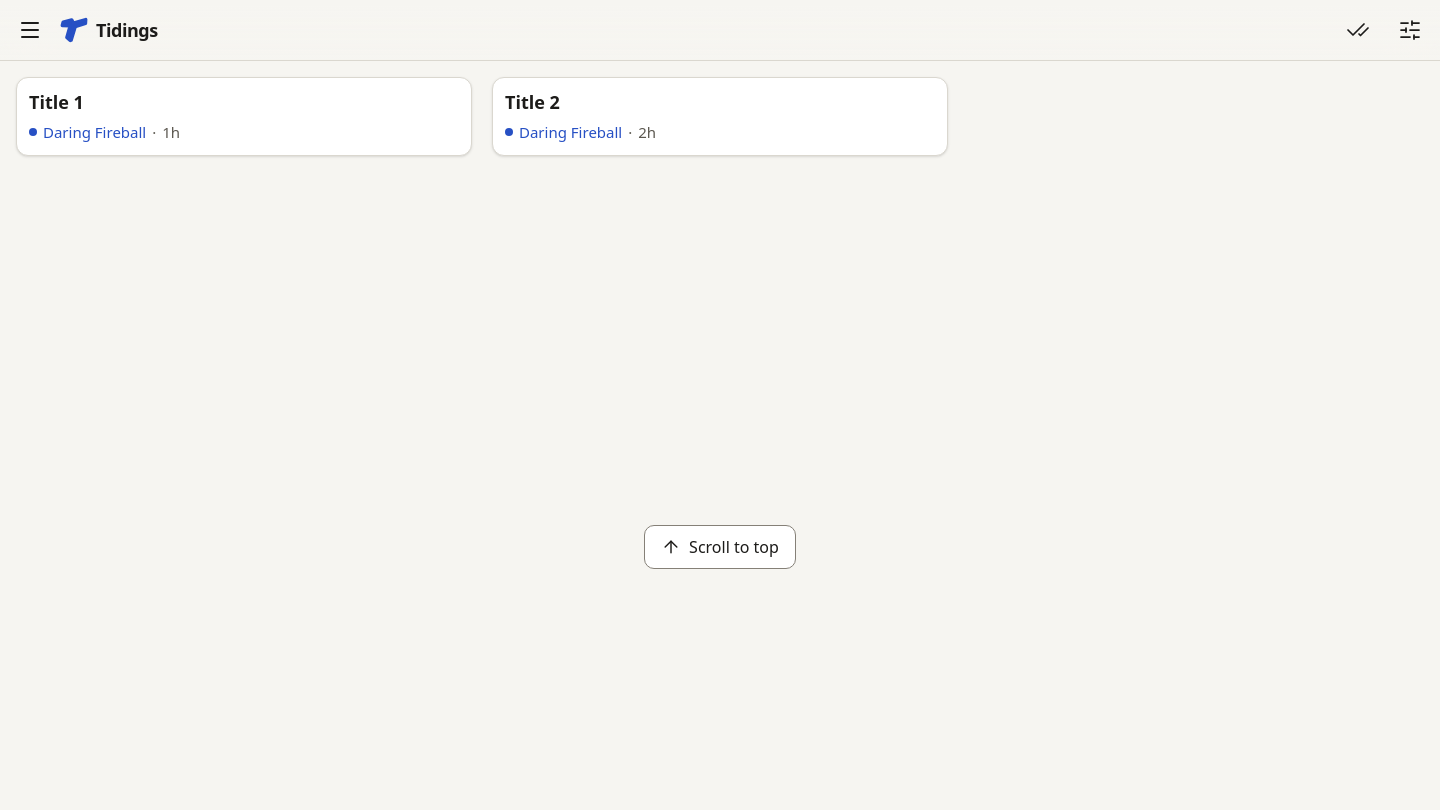
Scenario: AC1, AC3, AC4: 20 or fewer entries › shows rows as read straight away, before the server answers, and the counts drop
Expected: the heading "Title 1" is shown, x1=29 y1=90 x2=84 y2=114
Click the button named "Mark all as read" at point(1358, 30), box x1=1336 y1=8 x2=1380 y2=52
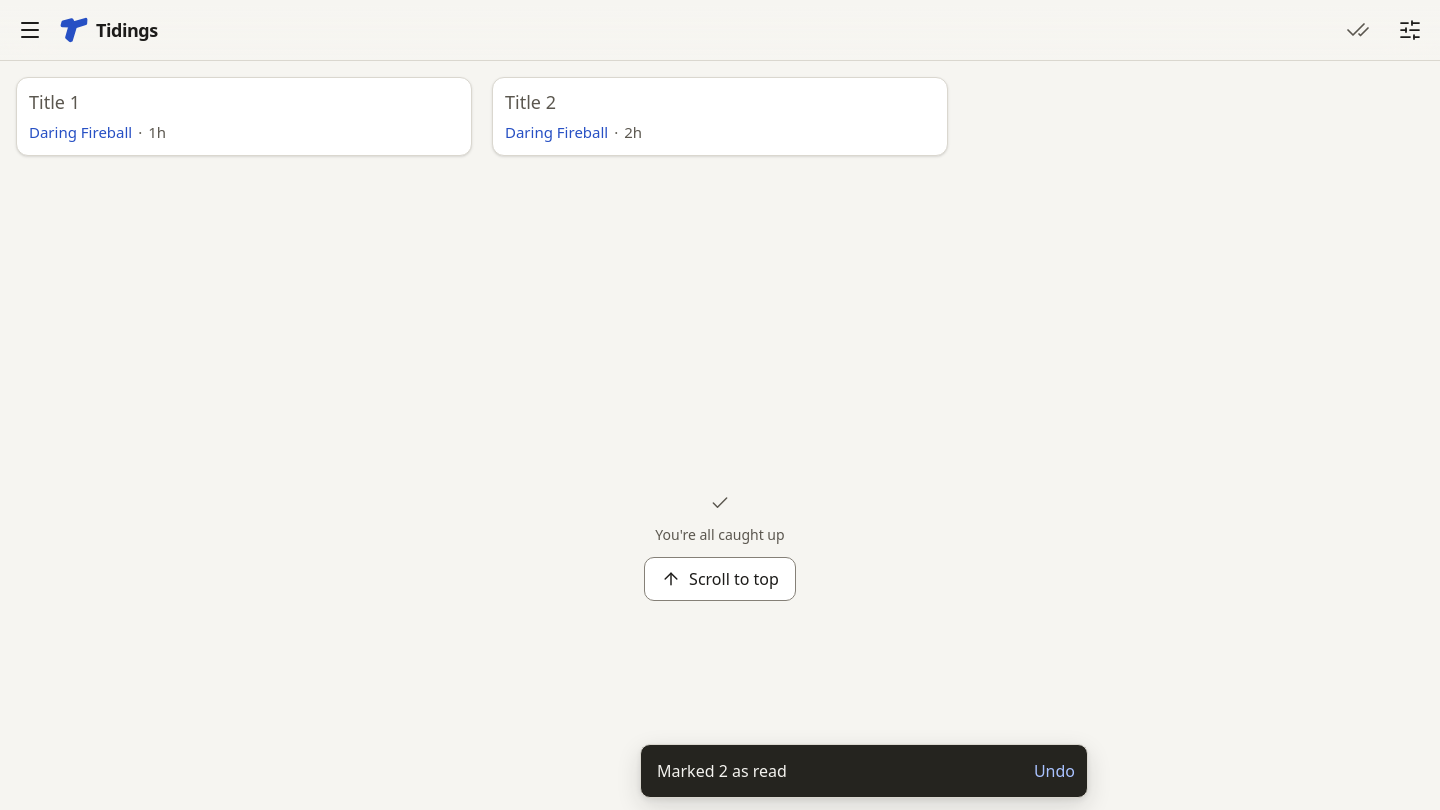
Expected: the text "Marked 2 as read" is shown, x1=657 y1=760 x2=787 y2=782
